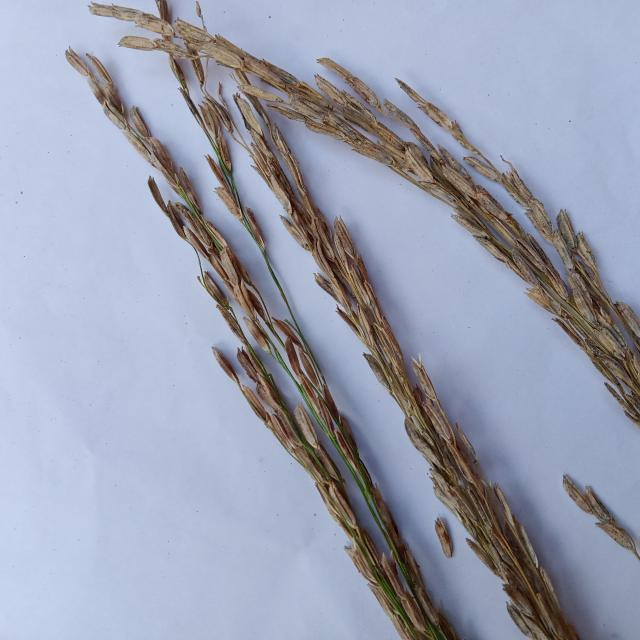Neck_Blast: (74, 44, 462, 640), (229, 100, 579, 639), (240, 48, 640, 427)
